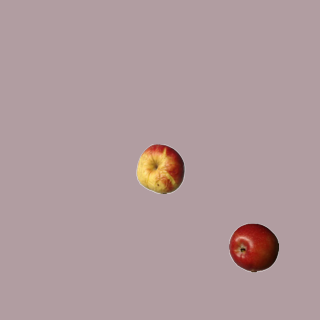Apple Braeburn: (228, 222, 278, 272)
Apple Red Yellow 1: (135, 143, 185, 193)
